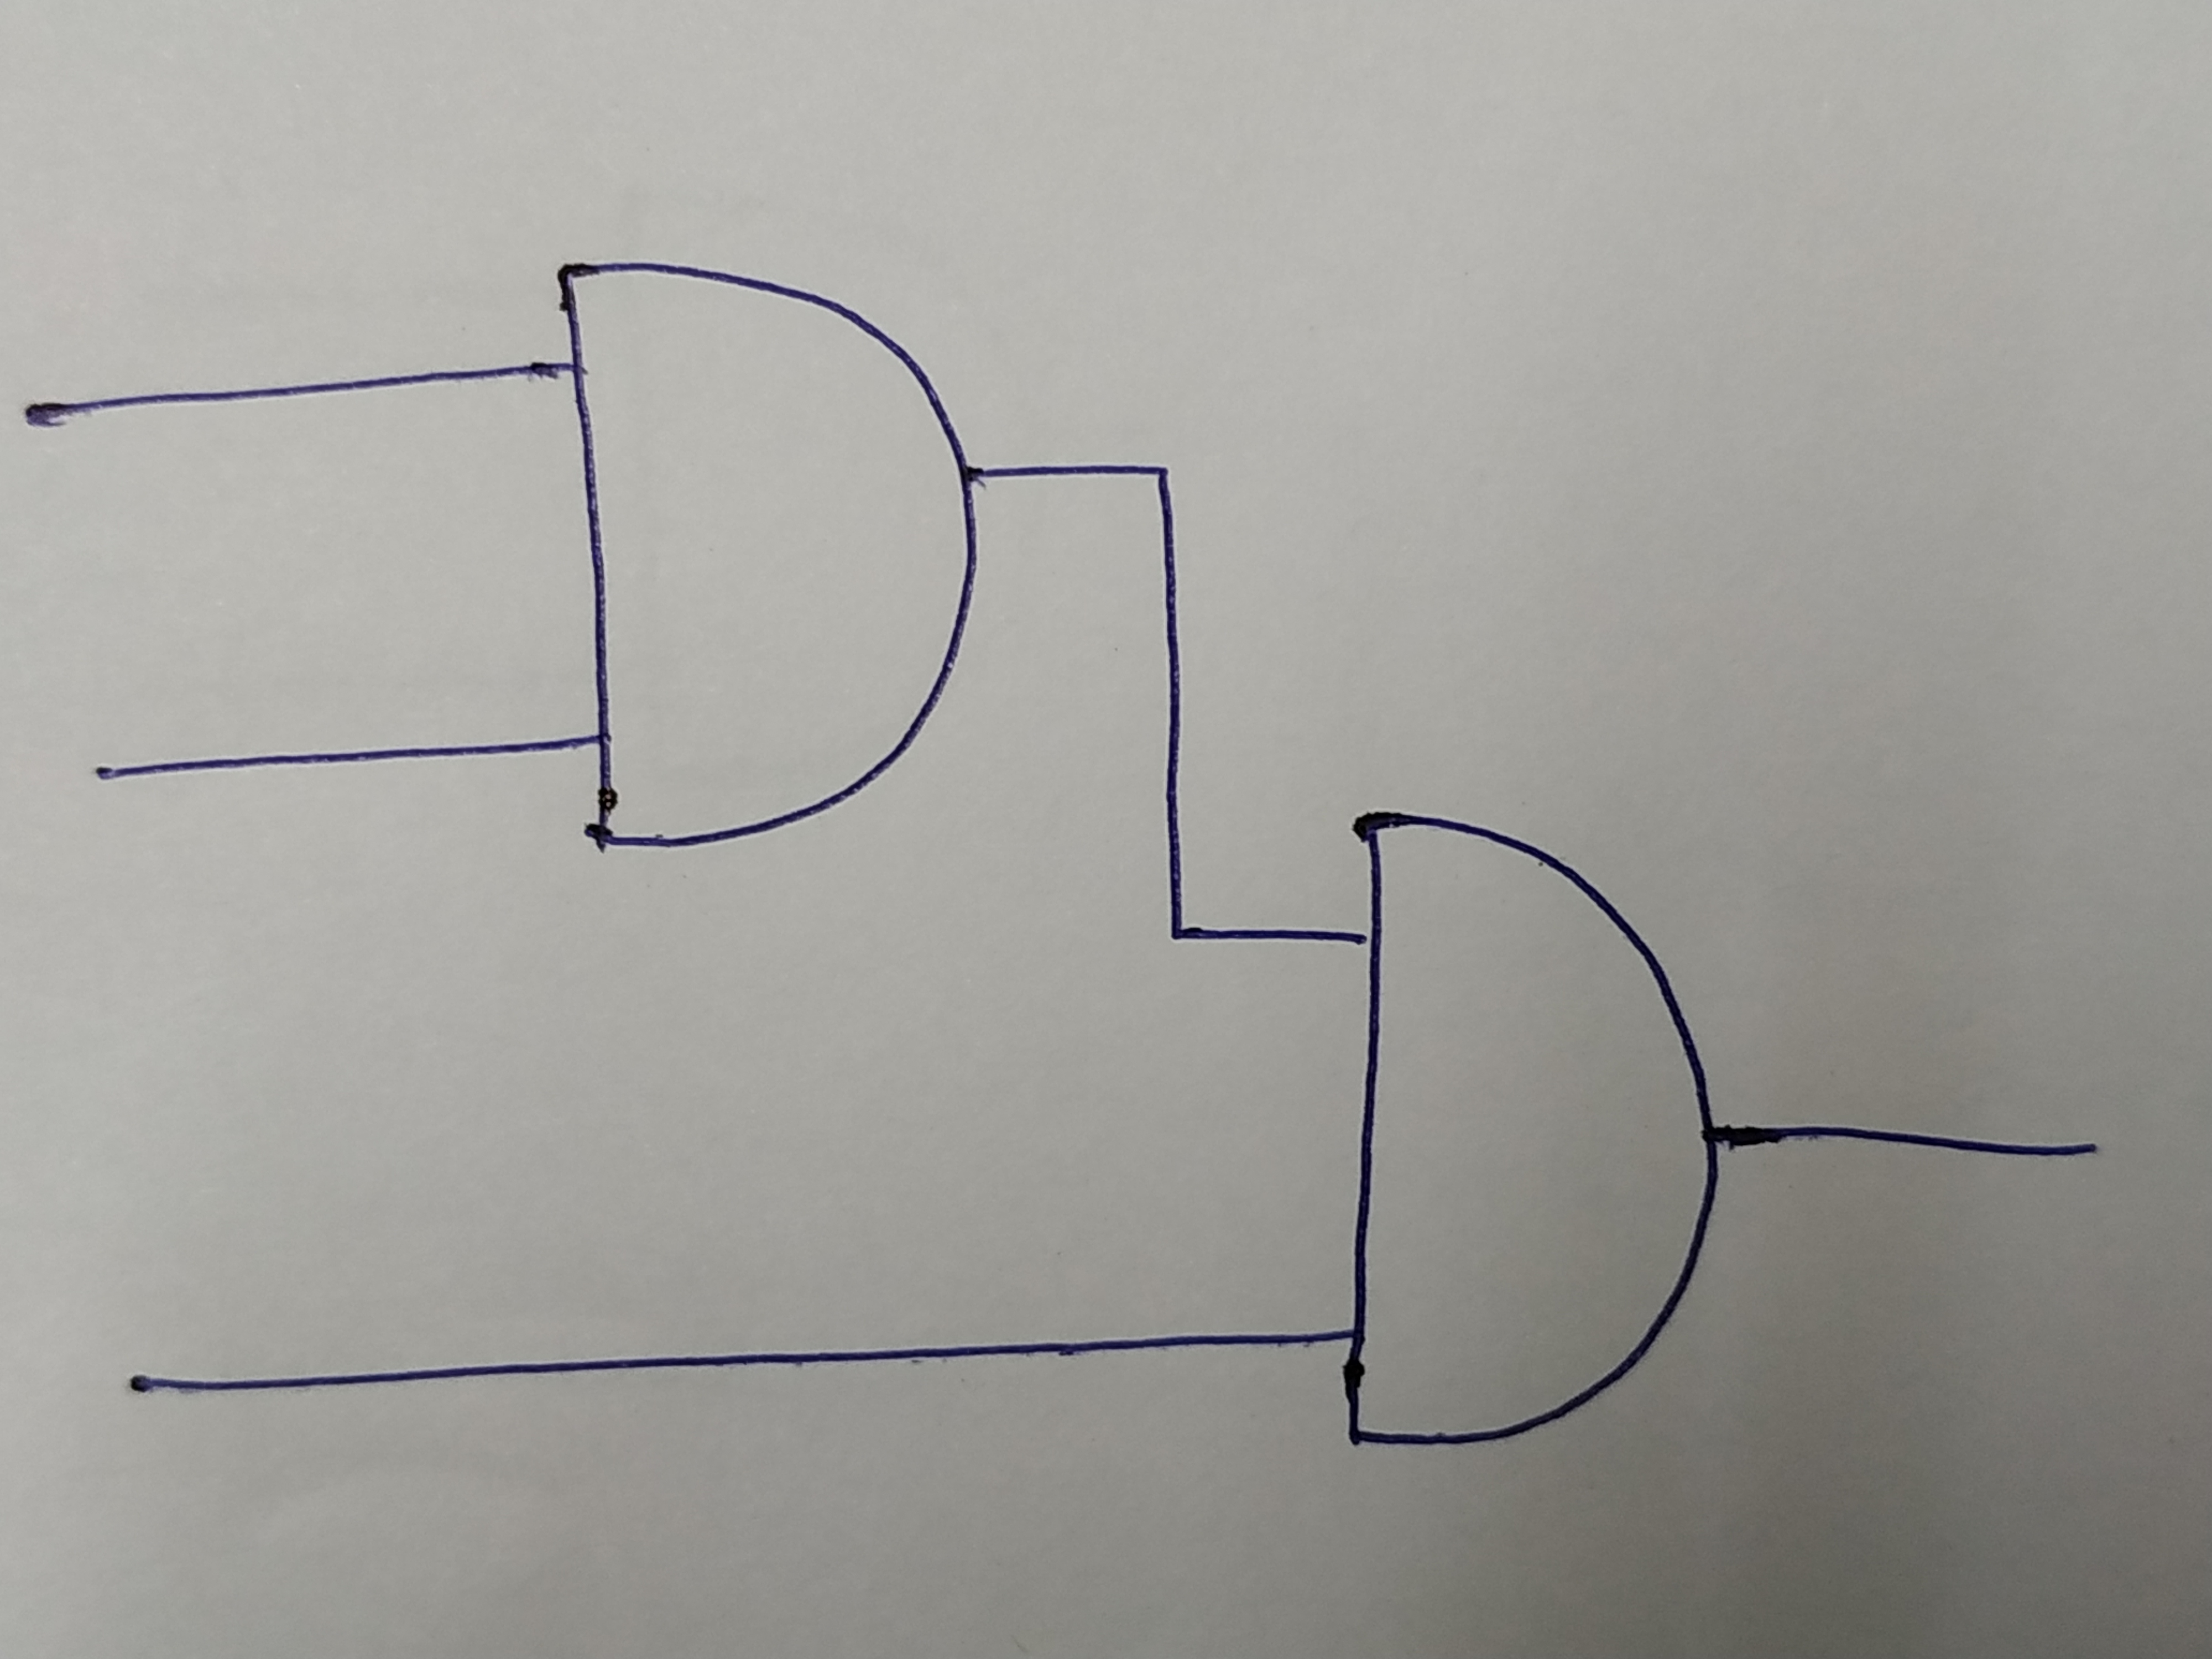and: (557, 256, 974, 847), (1353, 805, 1710, 1450)
